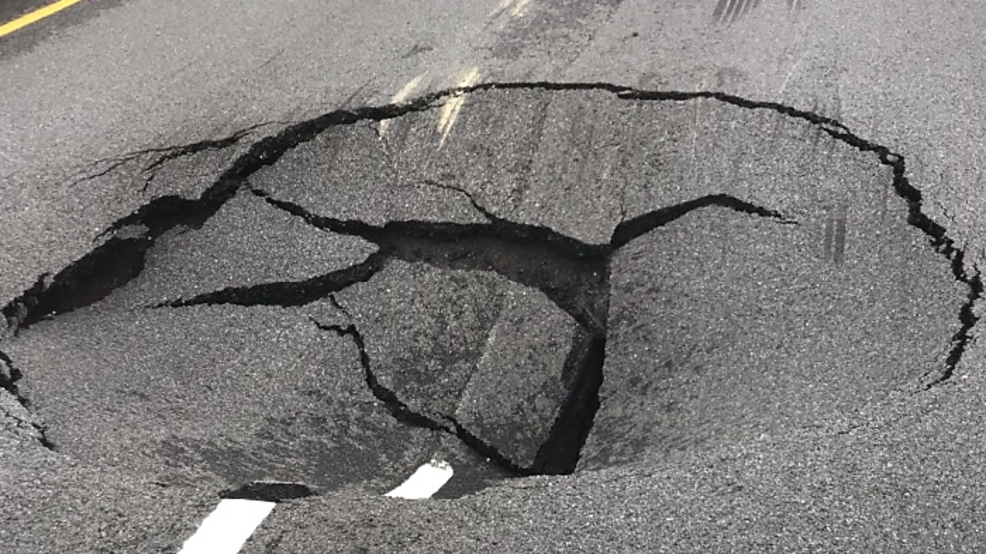Hole_in_the_road: (20, 76, 976, 500)
